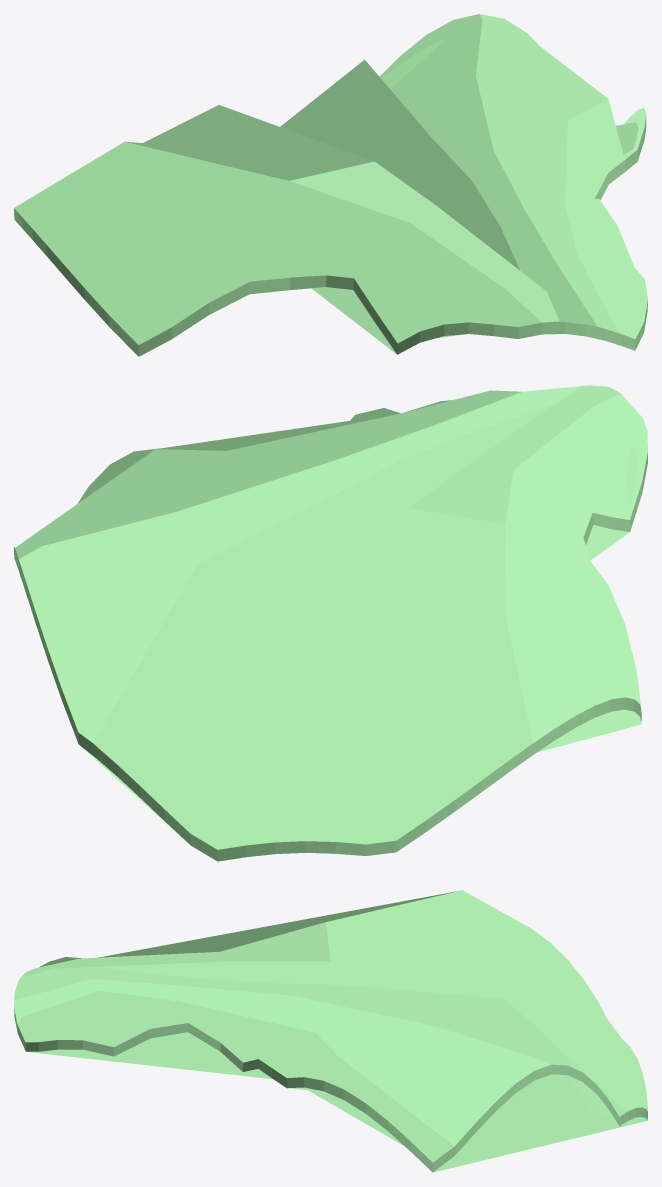
The model's file is Lettuce.fbx.
3 renders of one model, top to bottom at view 1: azimuth 30°, elevation 25°; view 2: azimuth 150°, elevation 25°; view 3: azimuth 270°, elevation 25°, orthographic. The views are drawn at different scales.
Visible parts, largest first — view 1: Lettuce; view 2: Lettuce; view 3: Lettuce.
Boxes of the visible parts, bbox=[...] form: Lettuce: bbox=[14, 14, 647, 356]; Lettuce: bbox=[14, 385, 647, 861]; Lettuce: bbox=[14, 890, 647, 1172].
Bounding box in the file's own units: 212 × 73.11 × 256.
